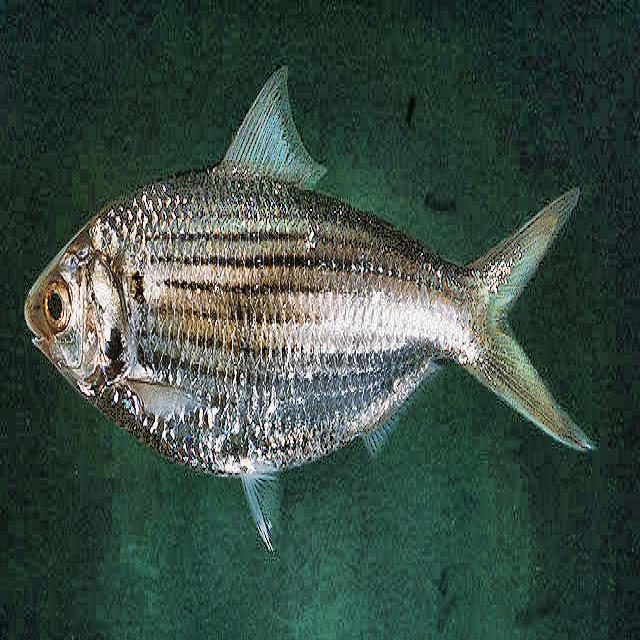fish: (23, 63, 598, 557)
